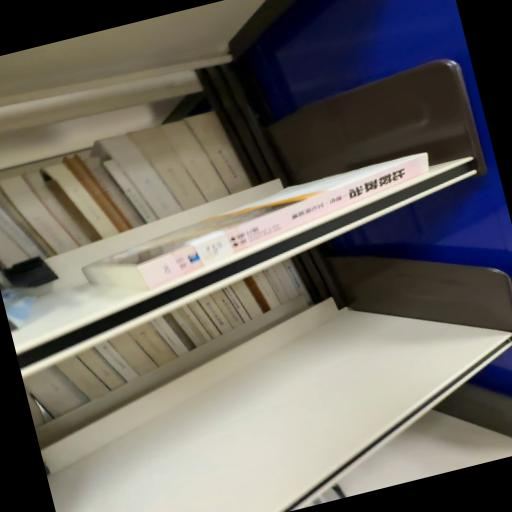flat: (83, 154, 430, 289)
